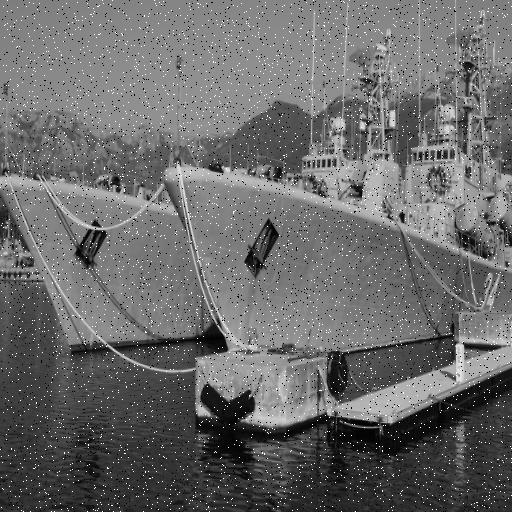Fragata: (158, 1, 512, 373)
